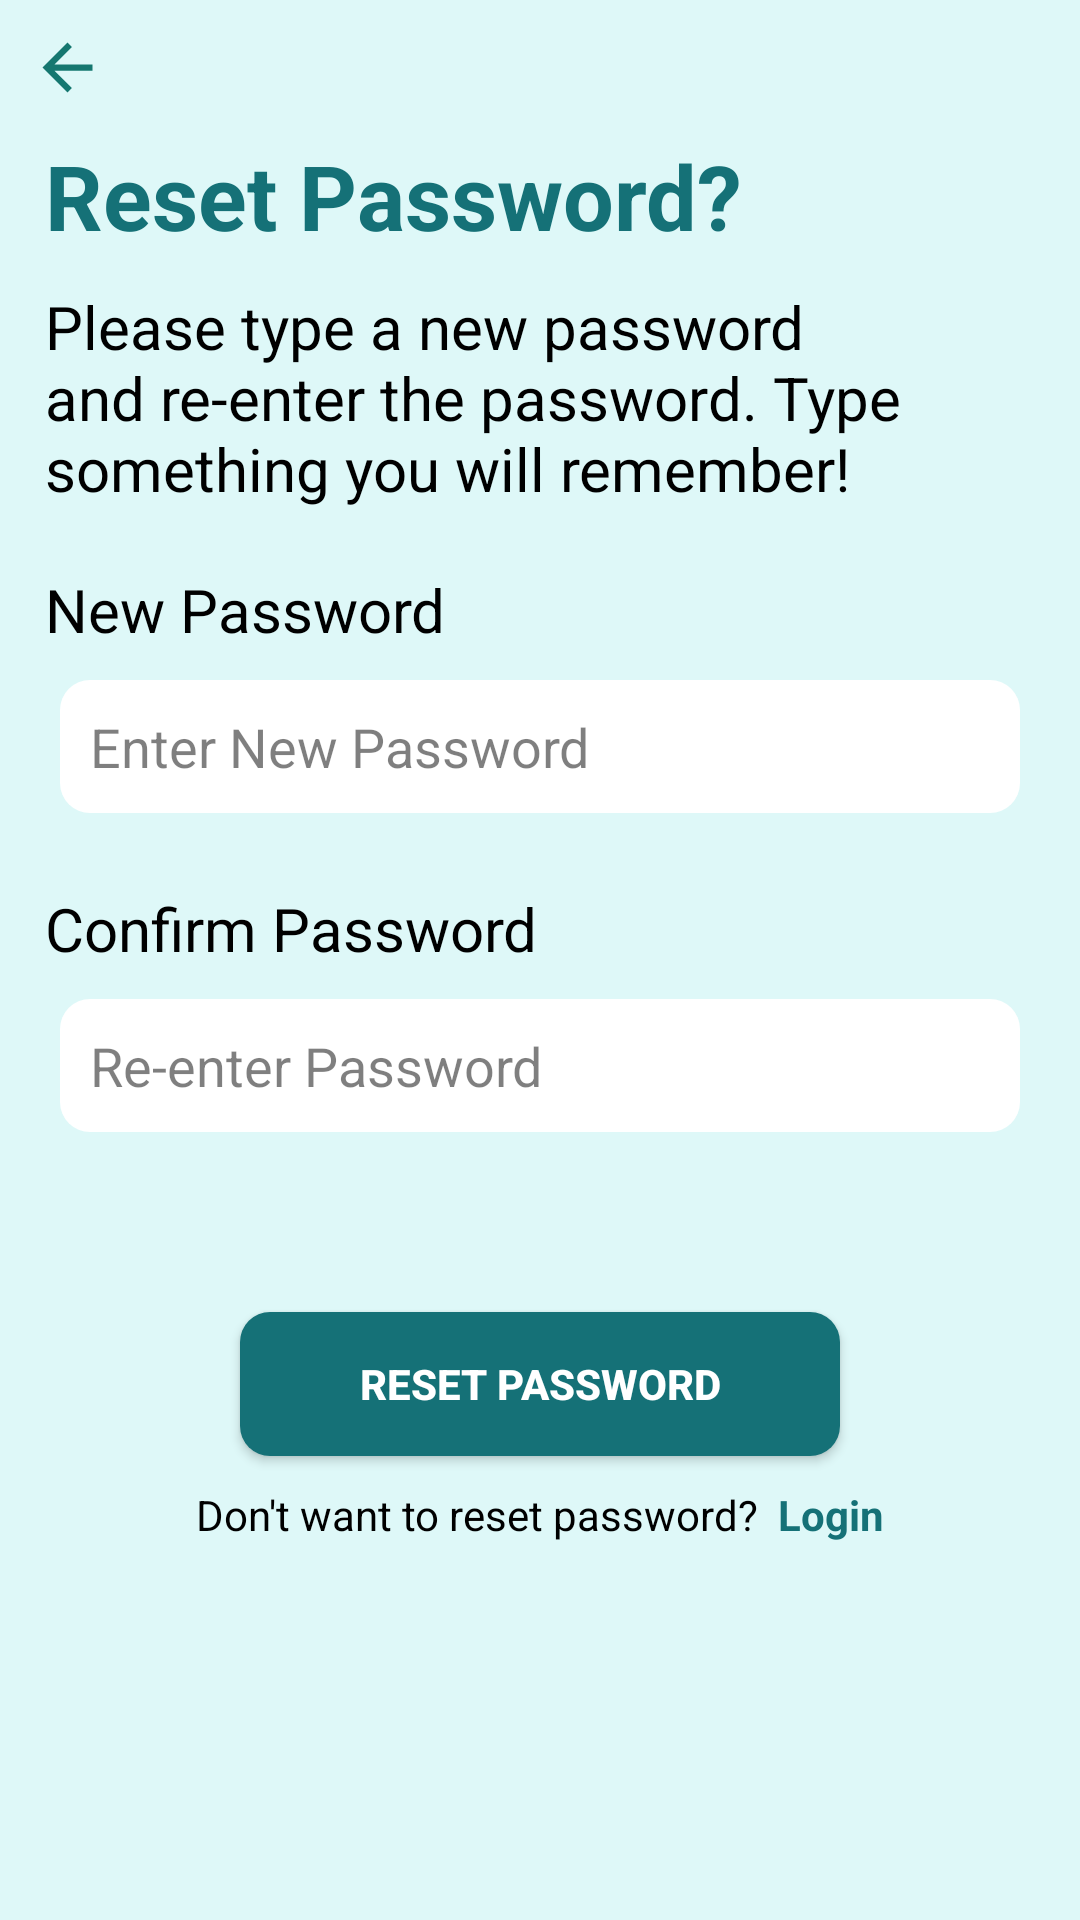

Screen size 1080 x 1920. Icon name, then its center in pixels as (x,y):
arrow back: (67,67)
